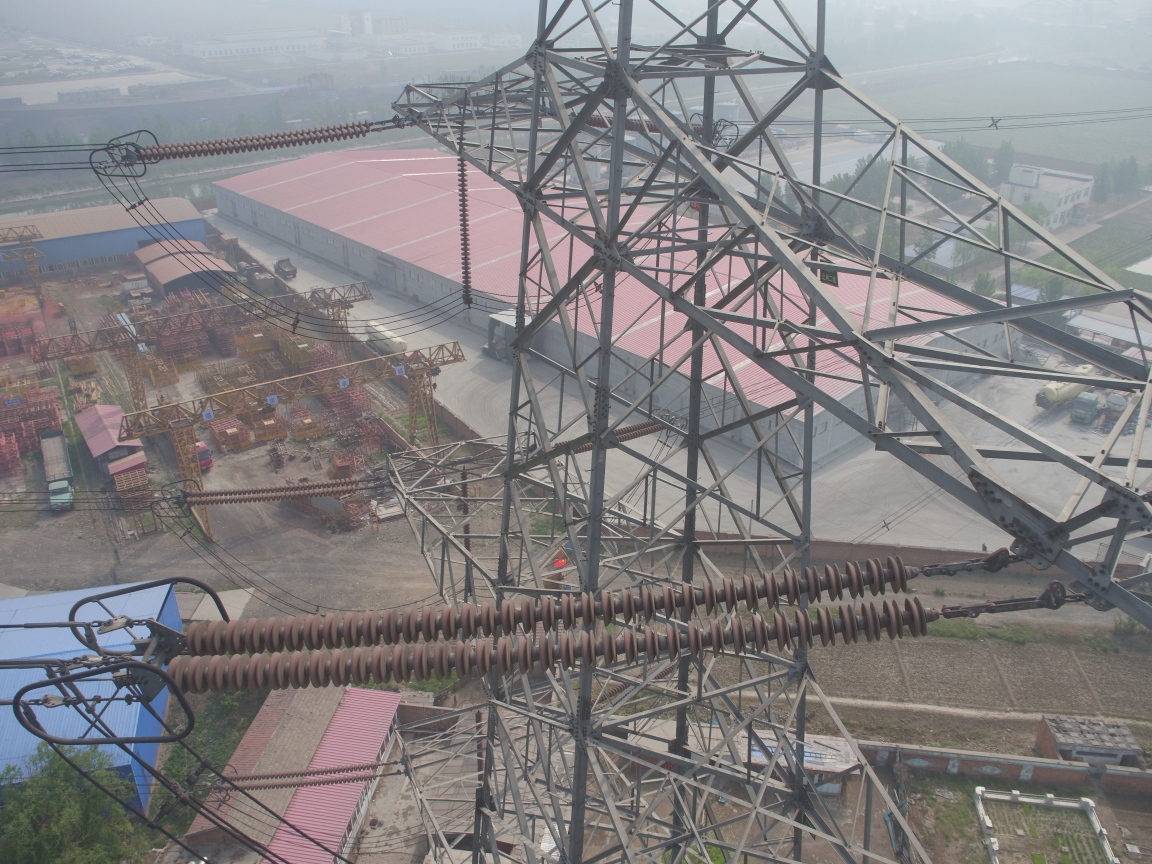insulator: (149, 552, 978, 703), (129, 116, 380, 163), (182, 474, 377, 507)
